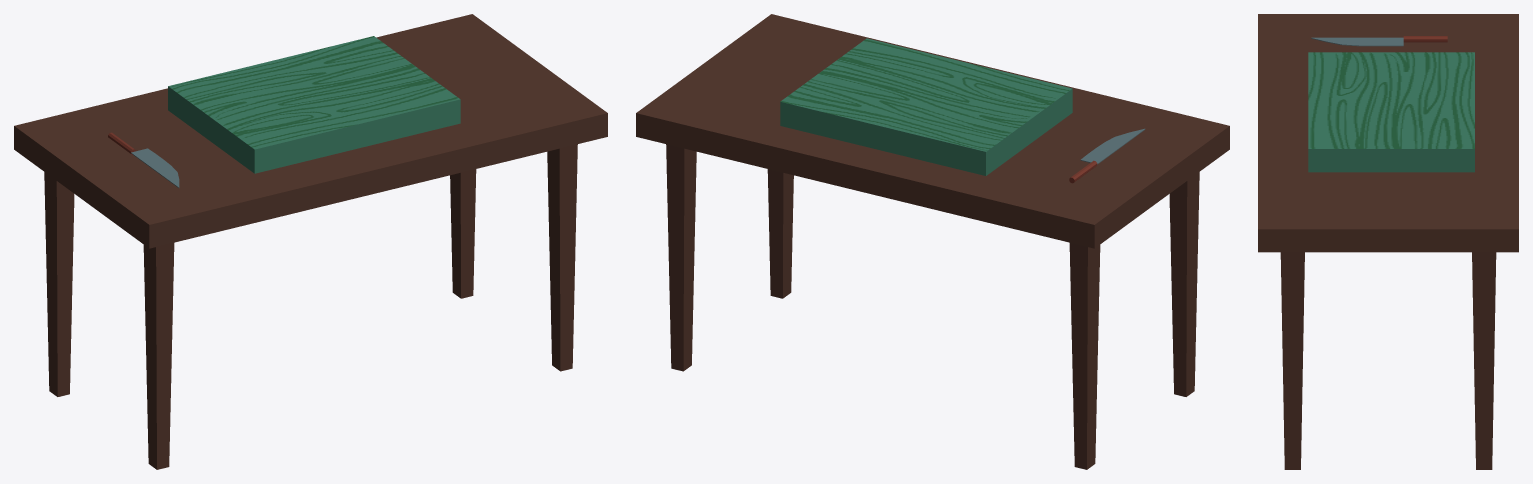
Rendered from table.fbx.
The picture shows the model from 3 angles, left to right: view 1: azimuth 30°, elevation 25°; view 2: azimuth 150°, elevation 25°; view 3: azimuth 270°, elevation 25°; orthographic projection. The views are drawn at different scales.
Visible parts, largest first — view 1: Cube, Cube.001, Cylinder.001; view 2: Cube, Cube.001, Cylinder.001; view 3: Cube, Cube.001, Cylinder.001.
Part boxes in pixels (x1,y1,x2,y2): Cube: [14, 14, 607, 469]; Cube.001: [168, 36, 460, 173]; Cylinder.001: [108, 132, 179, 187]; Cube: [636, 14, 1229, 469]; Cube.001: [780, 38, 1072, 175]; Cylinder.001: [1069, 128, 1145, 183]; Cube: [1258, 14, 1518, 469]; Cube.001: [1308, 52, 1474, 172]; Cylinder.001: [1311, 36, 1447, 46].
Size of the model in its own units: 445 by 264 by 228.
Materials: 3 (2 with a texture image).
